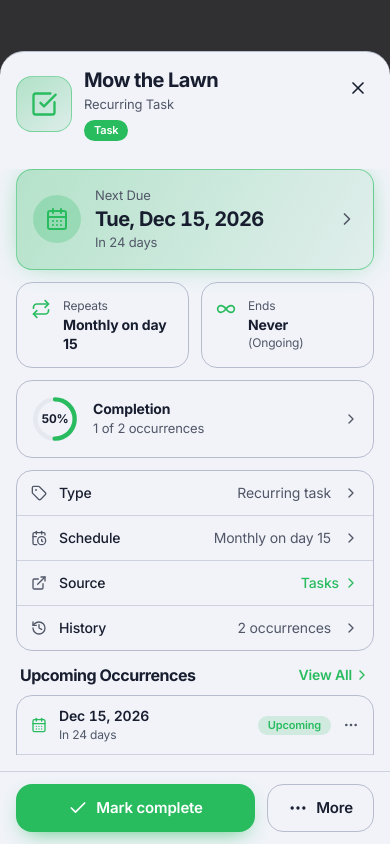
Scenario: a recurring task: one date at a time › a later date can be skipped or moved but not completed
The width and height of the screenshot is (390, 844).
Click the button with test id "cal-view-all" at x=334, y=675, box [299,665,370,685]
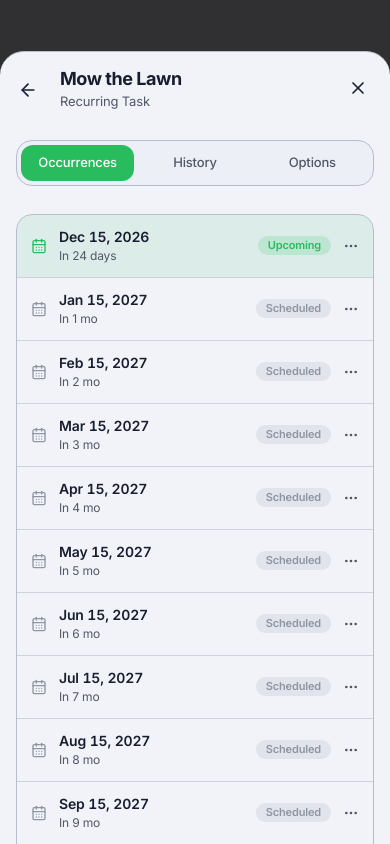
Click the button with test id "cal-occ-2027-01-15" at x=103, y=299, box [17,277,373,340]
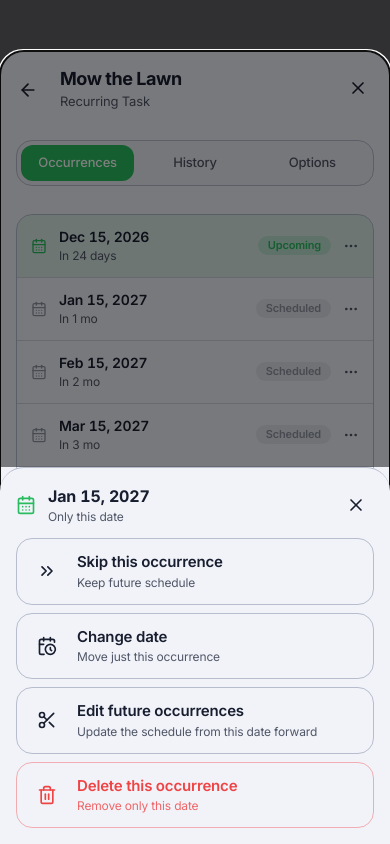
Expected: the button with test id "cal-menu-skip" is shown, [16,538,374,604]
